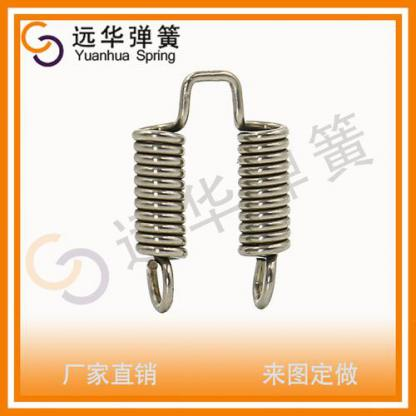FOD: (131, 67, 299, 318)
